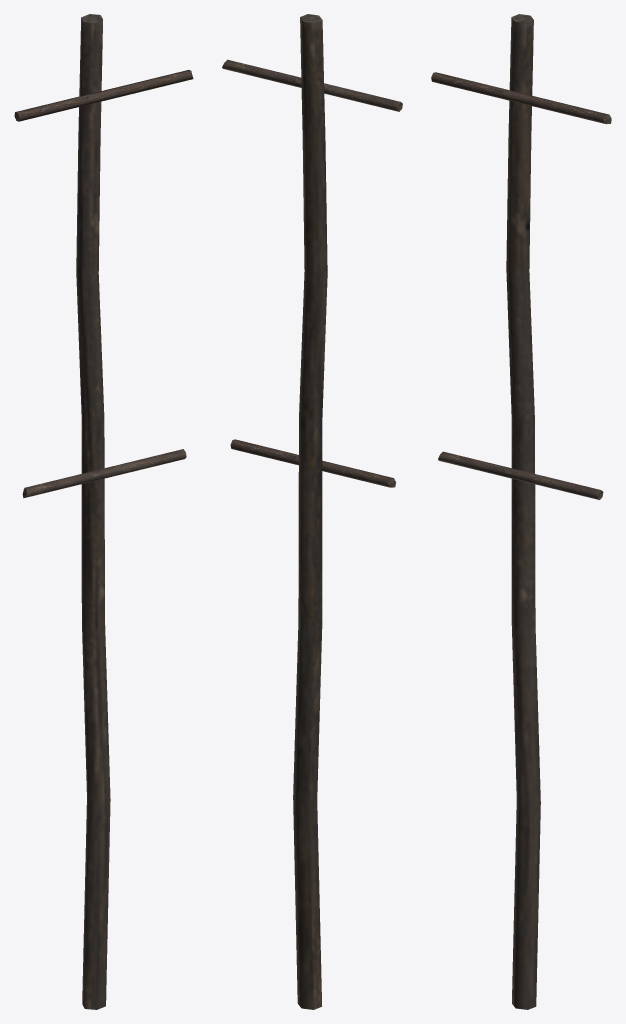
Rendered from b_zx_mulangan04_01.FBX.
3 renders of one model, left to right at view 1: azimuth 30°, elevation 25°; view 2: azimuth 150°, elevation 25°; view 3: azimuth 330°, elevation 25°, orthographic.
Parts seen in each view (by area): view 1: b_zx_mulangan04_01; view 2: b_zx_mulangan04_01; view 3: b_zx_mulangan04_01.
Part boxes in pixels (left/top/right/bottom): b_zx_mulangan04_01: left=14, top=14, right=193, bottom=1009; b_zx_mulangan04_01: left=222, top=14, right=402, bottom=1009; b_zx_mulangan04_01: left=431, top=14, right=611, bottom=1009.
Bounding box in the file's own units: 2.79 × 14.88 × 0.4075.
